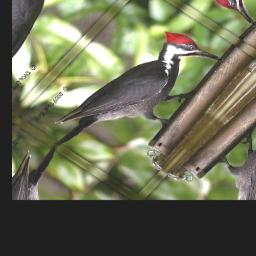Woodpecker: (41, 15, 227, 182)
